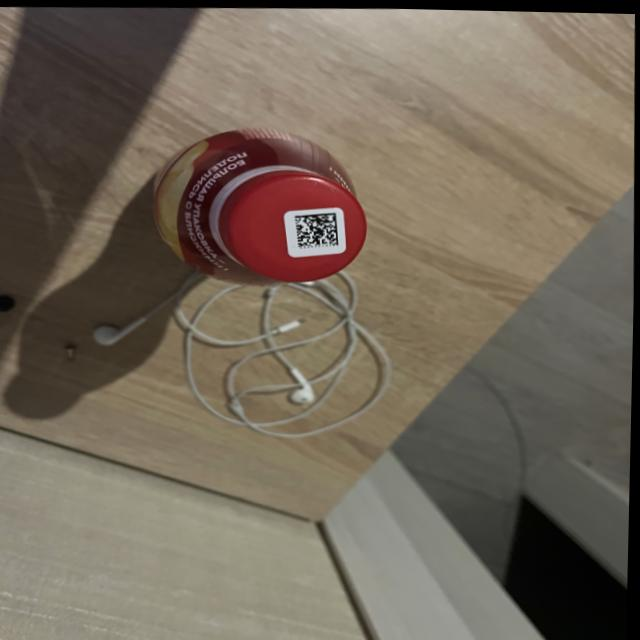datamatrix: (295, 210, 340, 247)
